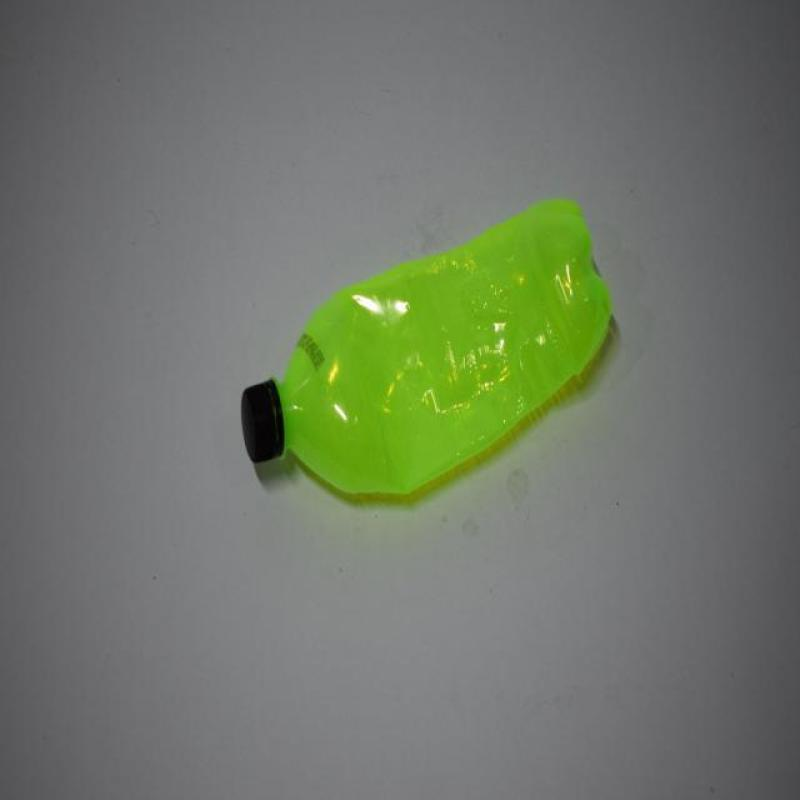botella: (240, 200, 615, 500)
